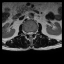CCS_normal: (29, 29, 31, 38)
LFS_normal: (33, 29, 35, 35)
LLS_normal: (31, 29, 33, 37)
RFS_normal: (26, 29, 27, 36)
RLS_normal: (27, 30, 29, 37)
